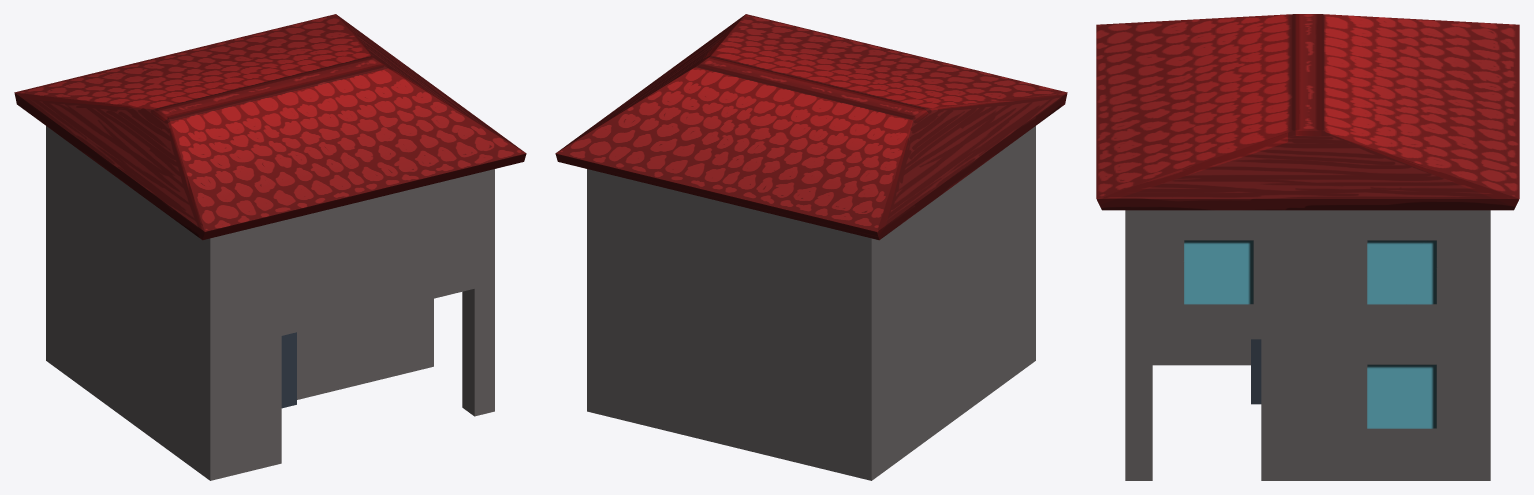
File: Building3.fbx
The picture shows the model from 3 angles, left to right: view 1: azimuth 30°, elevation 25°; view 2: azimuth 150°, elevation 25°; view 3: azimuth 270°, elevation 25°; orthographic projection. The views are drawn at different scales.
Parts seen in each view (by area): view 1: Building3; view 2: Building3; view 3: Building3.
Boxes of the visible parts, <box> form: Building3: <box>14,14,526,480</box>; Building3: <box>555,14,1067,480</box>; Building3: <box>1096,14,1519,480</box>.
Size of the model in its own units: 449 by 399 by 461.
